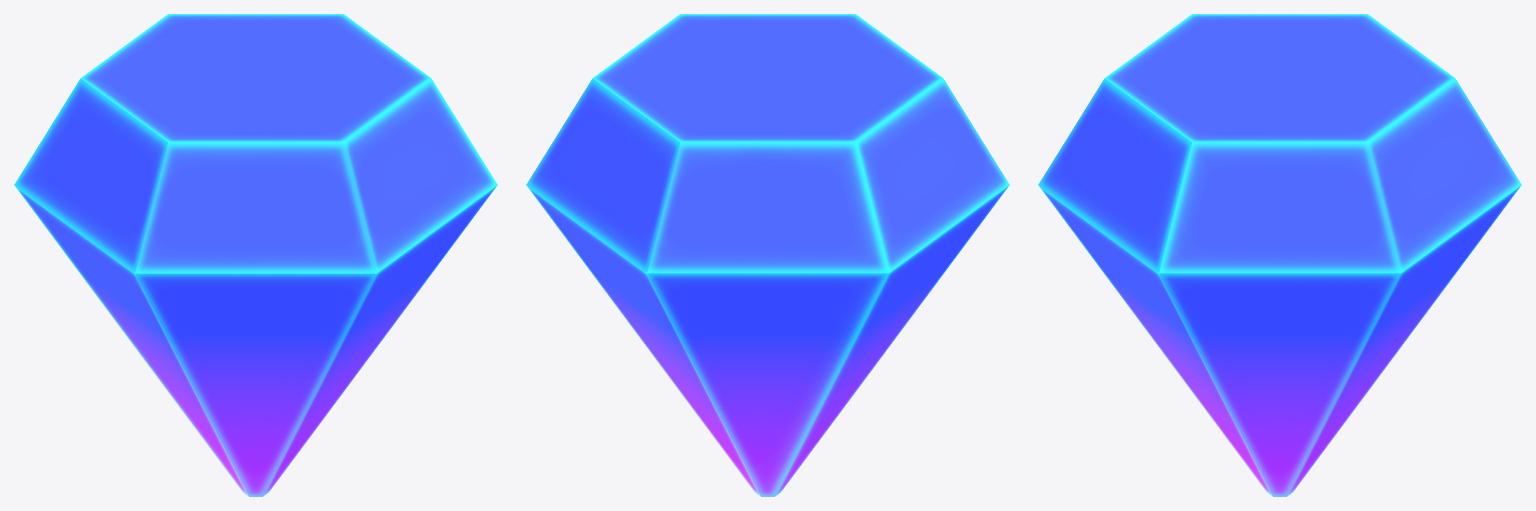
Rendered from Stone4.fbx.
3 renders of one model, left to right at view 1: azimuth 30°, elevation 25°; view 2: azimuth 150°, elevation 25°; view 3: azimuth 270°, elevation 25°, orthographic.
Visible parts, largest first — view 1: Stone4; view 2: Stone4; view 3: Stone4.
Part boxes in pixels (x1,y1,x2,y2): Stone4: [14, 14, 497, 496]; Stone4: [526, 14, 1009, 496]; Stone4: [1038, 14, 1521, 496].
Size of the model in its own units: 42.5 by 46.35 by 49.08.
